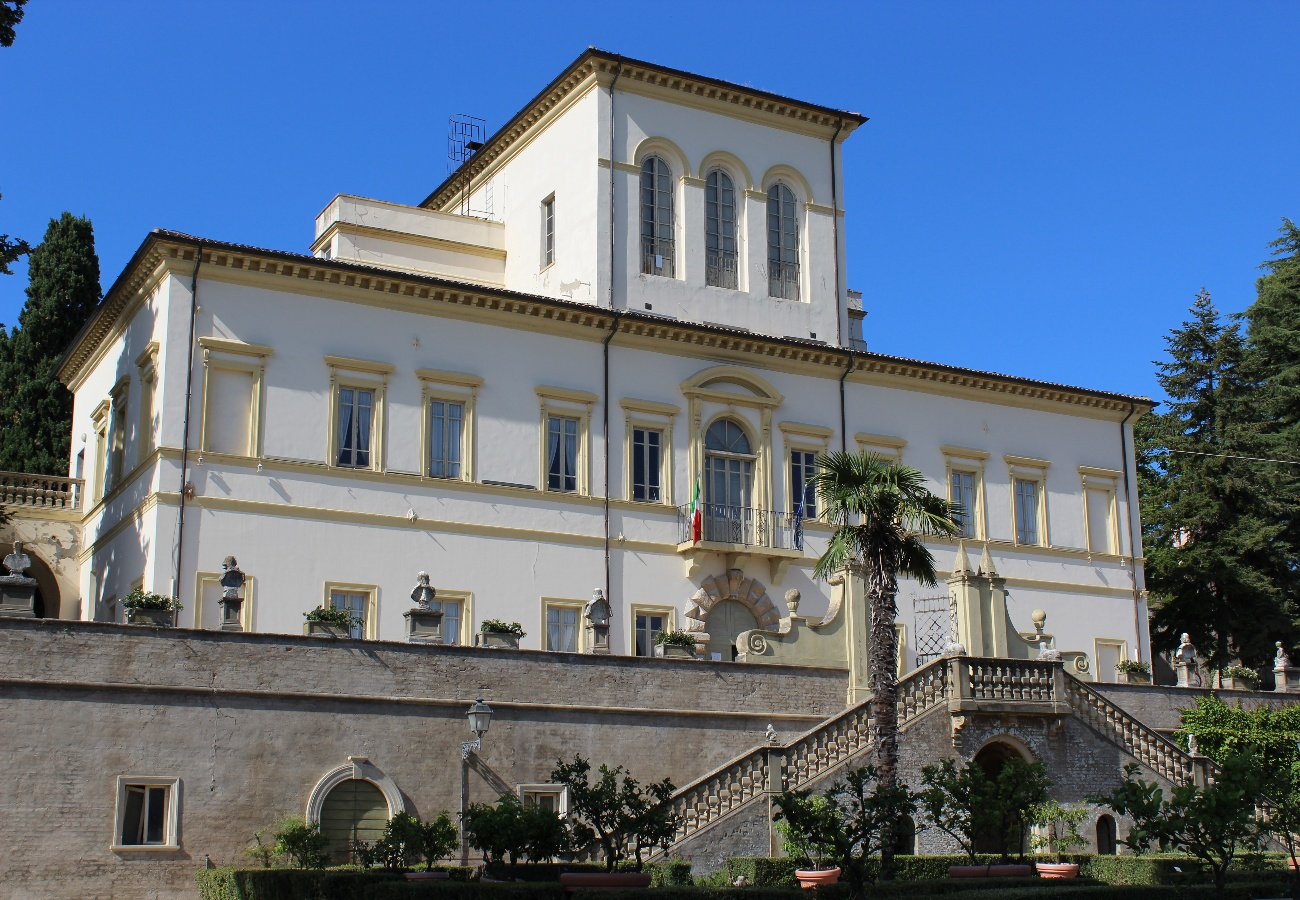Villa Caprile: (49, 50, 1157, 693)
